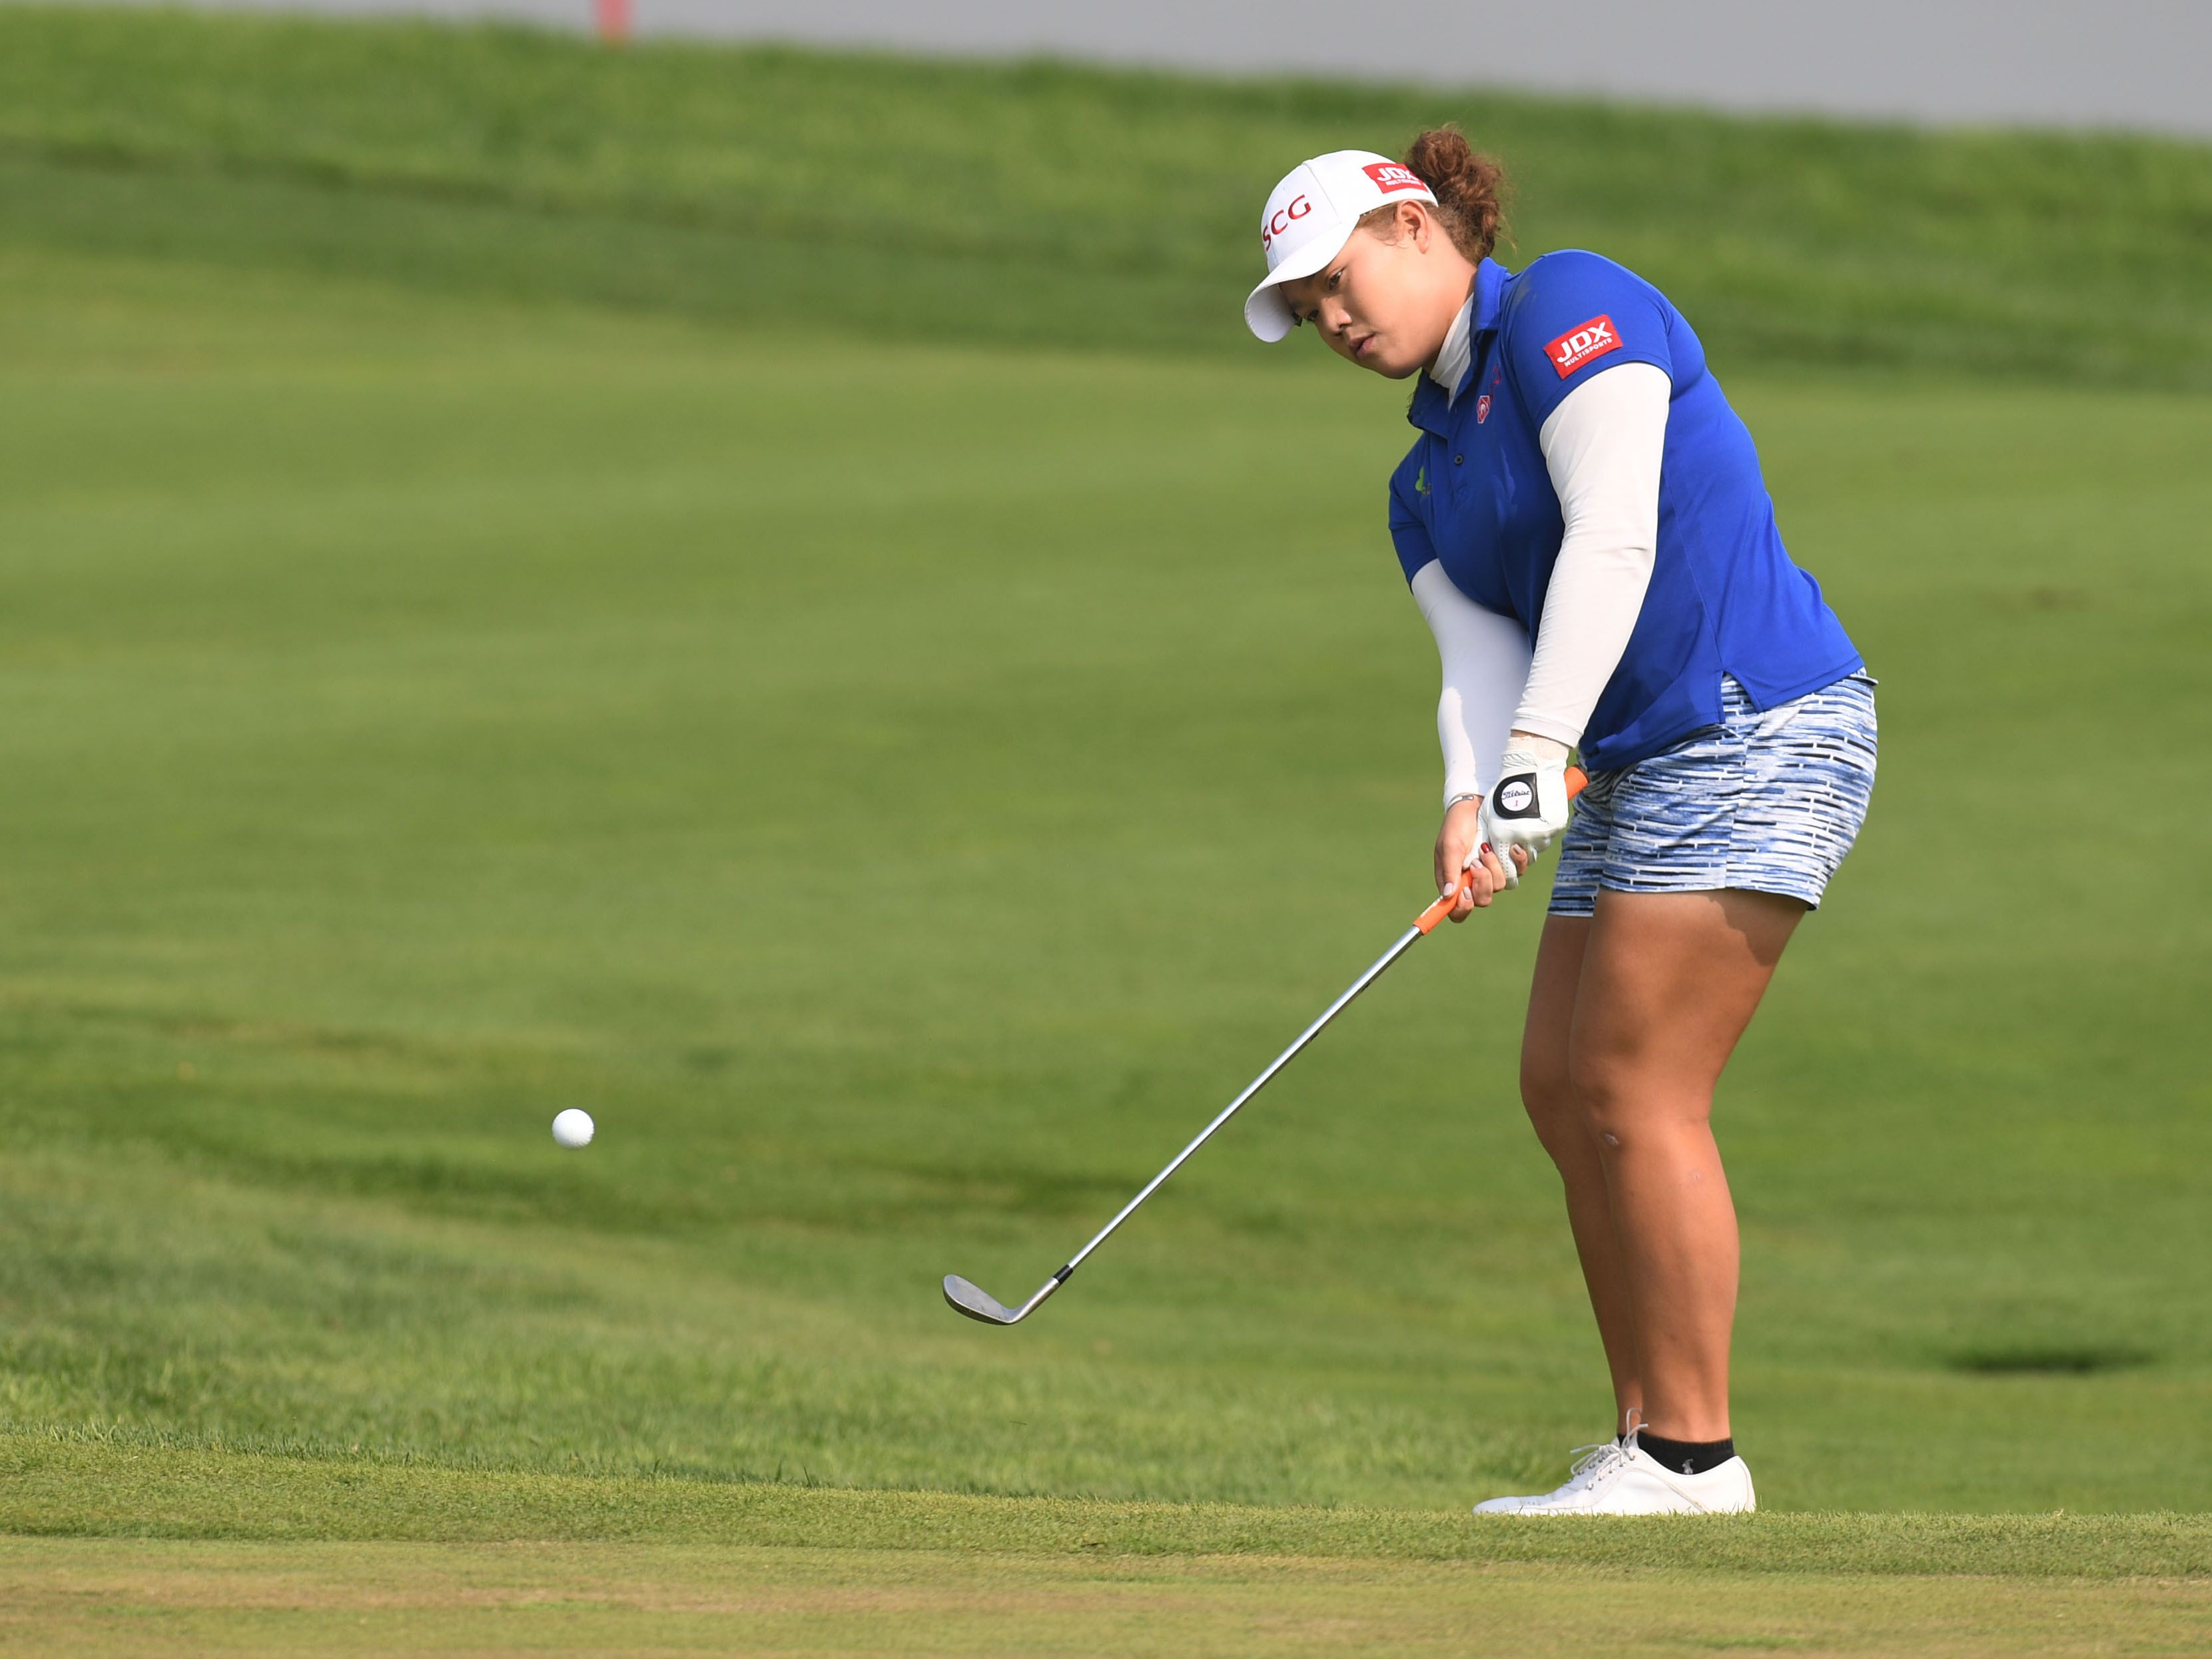golfball: (549, 1105, 598, 1152)
